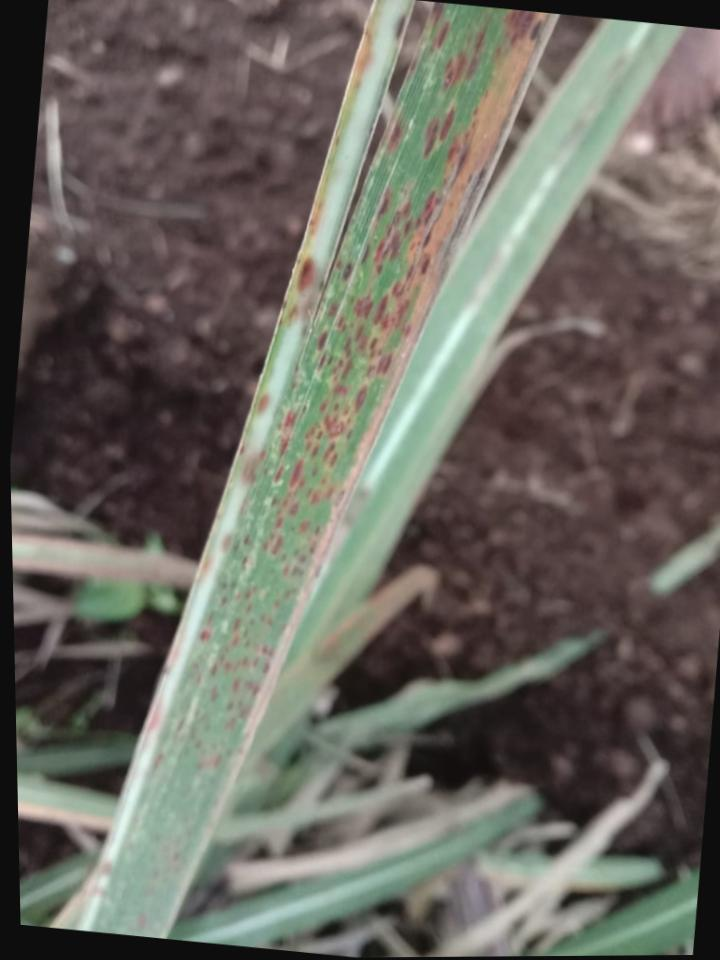RedRot: (296, 256, 321, 298), (359, 27, 377, 84), (144, 696, 168, 738), (310, 198, 326, 235), (96, 853, 116, 878), (90, 878, 104, 903), (258, 393, 271, 414)
Rust: (151, 129, 493, 778), (417, 25, 505, 170), (129, 803, 200, 933), (405, 3, 454, 78), (491, 10, 553, 50), (236, 443, 274, 486), (378, 110, 407, 164), (391, 8, 410, 47), (198, 550, 218, 581), (288, 364, 302, 395), (298, 321, 314, 346), (318, 275, 335, 298), (218, 533, 234, 557)
Yellow: (215, 15, 557, 798)
